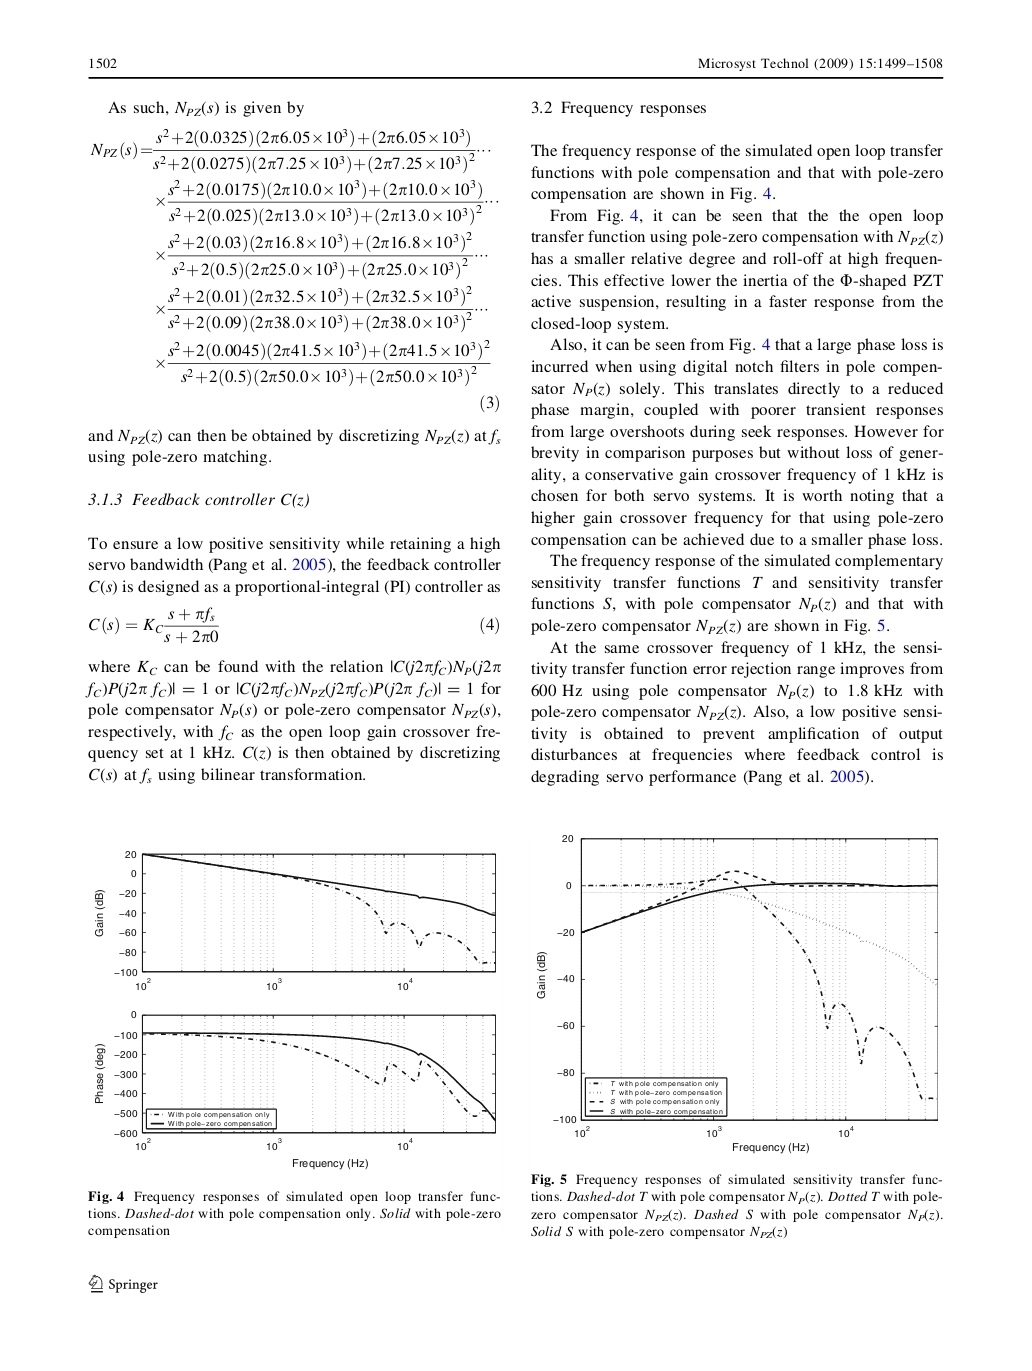figure: (536, 835, 938, 1138), (94, 850, 495, 991), (95, 1010, 495, 1151)
formula: (90, 128, 490, 174), (156, 178, 498, 227), (156, 231, 487, 280), (89, 605, 498, 644), (156, 339, 490, 387), (156, 285, 487, 333)
